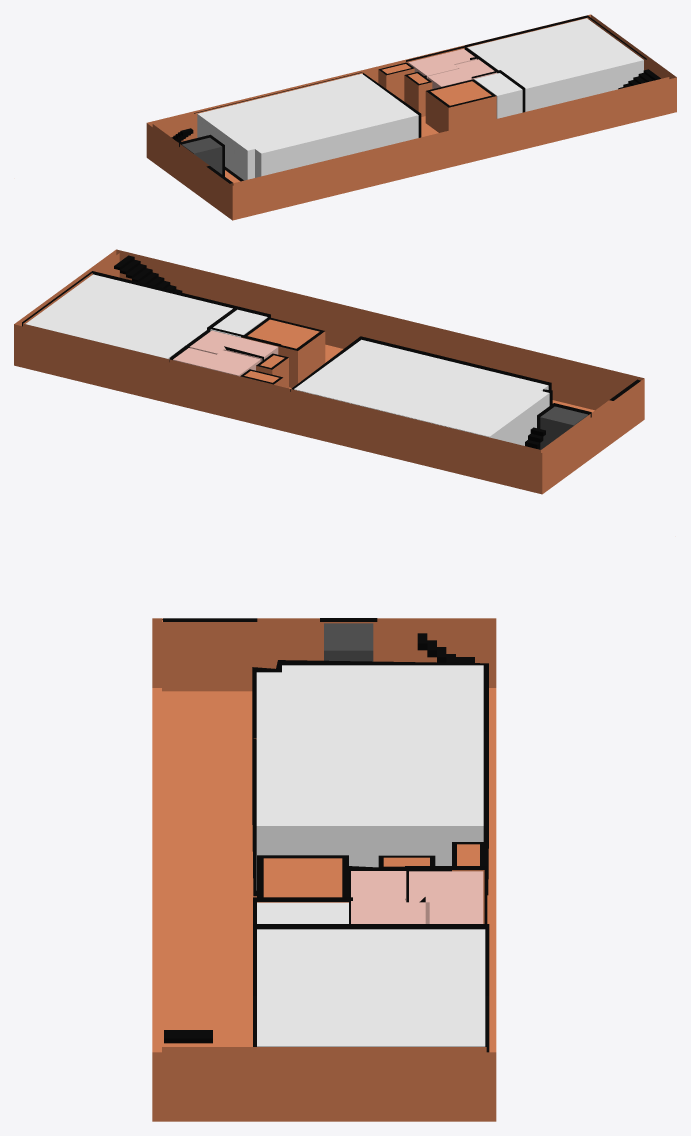
The picture shows the model from 3 angles, top to bottom: view 1: azimuth 30°, elevation 25°; view 2: azimuth 150°, elevation 25°; view 3: azimuth 270°, elevation 25°; orthographic projection. The views are drawn at different scales.
Parts seen in each view (by area): view 1: object, room_2_B1_2, room_2_B1_1, room_2_B1_4, トイレ_2_B1_1, トイレ_2_B1_2, エレベーター_2_B1_1, object_line.002, object_line.005, 階段_2_B1_1; view 2: object, room_2_B1_2, room_2_B1_1, トイレ_2_B1_1, トイレ_2_B1_2, object_line.002, エレベーター_2_B1_1, 階段_2_B1_1, room_2_B1_4, object_line.005; view 3: object, room_2_B1_2, room_2_B1_1, トイレ_2_B1_1, object_line.002, トイレ_2_B1_2, object_line.005, room_2_B1_4, エレベーター_2_B1_1.
Part boxes in pixels (box(x1,y1,x2,y2)): object: box(146, 14, 676, 220); room_2_B1_2: box(197, 73, 418, 180); room_2_B1_1: box(467, 18, 643, 111); room_2_B1_4: box(474, 73, 522, 118); トイレ_2_B1_1: box(408, 49, 476, 78); トイレ_2_B1_2: box(427, 59, 497, 88); エレベーター_2_B1_1: box(182, 137, 222, 174); object_line.002: box(194, 72, 421, 181); object_line.005: box(464, 15, 646, 59); 階段_2_B1_1: box(618, 69, 660, 89); object: box(14, 249, 644, 494); room_2_B1_2: box(294, 339, 549, 445); room_2_B1_1: box(25, 274, 232, 359); トイレ_2_B1_1: box(173, 348, 260, 376); トイレ_2_B1_2: box(189, 330, 278, 361); object_line.002: box(290, 336, 552, 405); エレベーター_2_B1_1: box(540, 406, 588, 449); 階段_2_B1_1: box(114, 255, 182, 292); room_2_B1_4: box(210, 309, 267, 337); object_line.005: box(22, 271, 236, 326); object: box(152, 618, 496, 1121); room_2_B1_2: box(256, 665, 483, 890); room_2_B1_1: box(257, 929, 485, 1046); トイレ_2_B1_1: box(409, 871, 483, 923); object_line.002: box(252, 660, 488, 896); トイレ_2_B1_2: box(351, 871, 425, 923); object_line.005: box(253, 924, 489, 1052); room_2_B1_4: box(257, 902, 348, 923); エレベーター_2_B1_1: box(324, 623, 373, 661).
Bounding box in the file's own units: 3 × 0.1948 × 0.8865.
